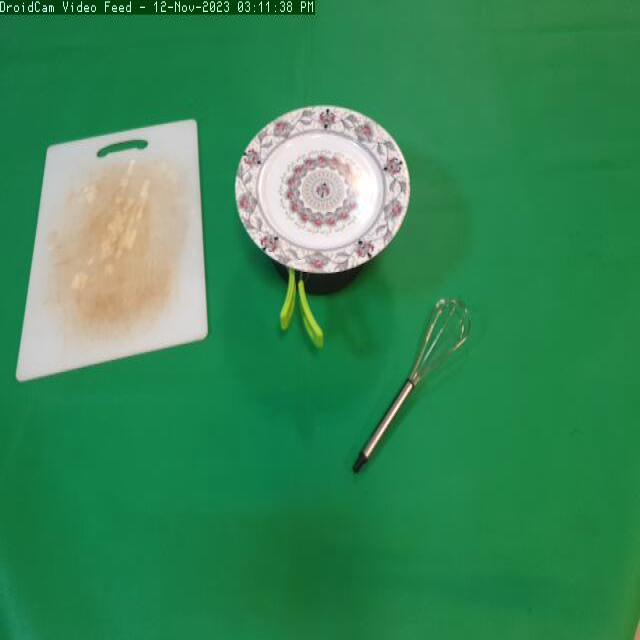cutting board: (12, 114, 210, 403)
plate: (231, 98, 415, 355)
pot: (263, 243, 377, 348)
whisk: (351, 291, 488, 486)
